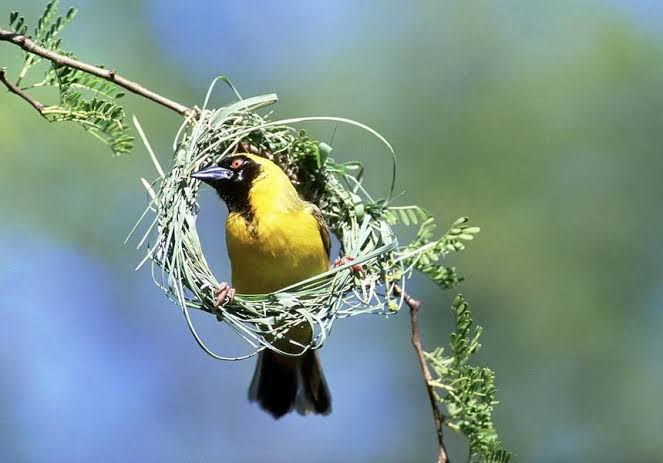target: (169, 131, 384, 421)
